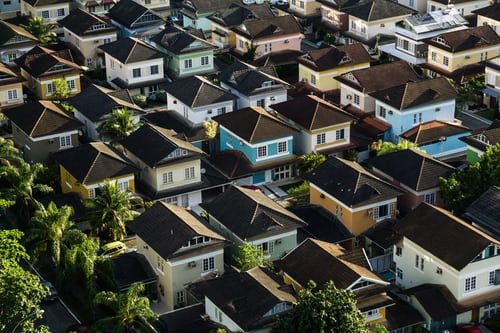house: (125, 120, 212, 189)
